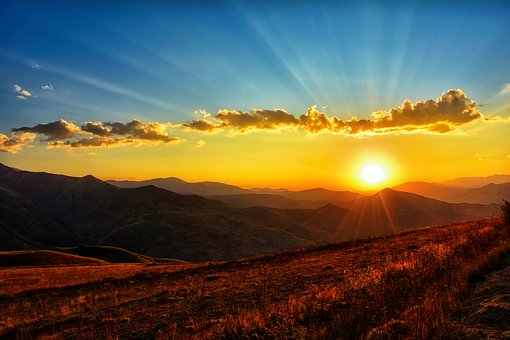field: (19, 247, 510, 338)
mountain: (13, 181, 510, 246)
sky: (1, 1, 505, 196)
